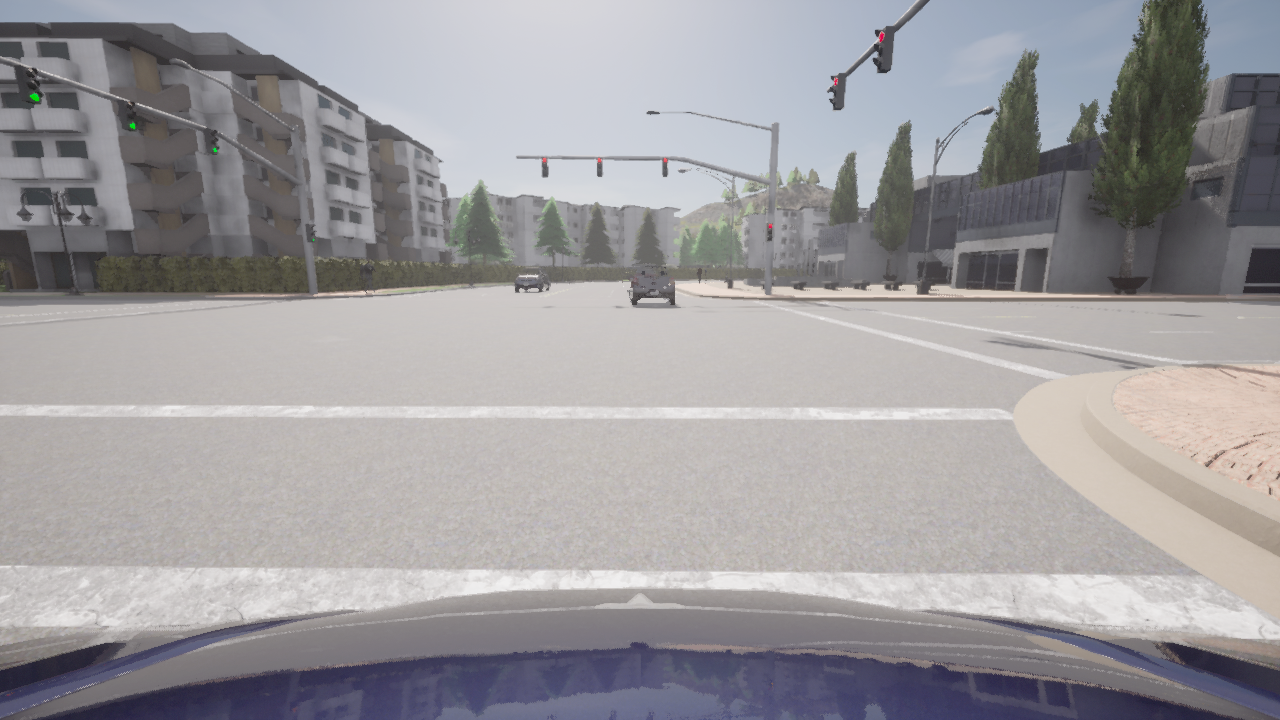cyclist: (0, 588, 1279, 719), (627, 265, 675, 305), (513, 267, 549, 292), (634, 274, 635, 276)
pedestrian: (361, 259, 378, 293), (696, 265, 702, 283), (703, 265, 707, 283)
